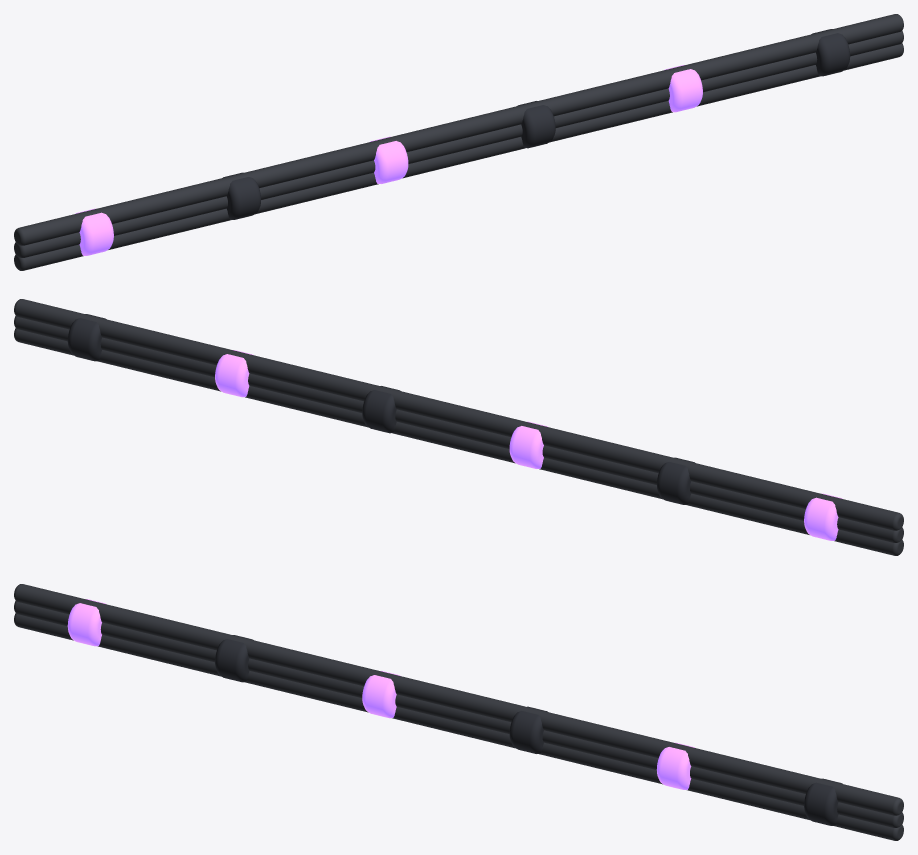
3 renders of one model, top to bottom at view 1: azimuth 30°, elevation 25°; view 2: azimuth 150°, elevation 25°; view 3: azimuth 330°, elevation 25°, orthographic.
Visible parts, largest first — view 1: part_089; view 2: part_089; view 3: part_089.
Part boxes in pixels (bbox=[...]): part_089: bbox=[14, 14, 903, 270]; part_089: bbox=[14, 299, 903, 555]; part_089: bbox=[14, 584, 903, 840].
Bounding box in the file's own units: 0.9 × 0.0408 × 0.0392.
